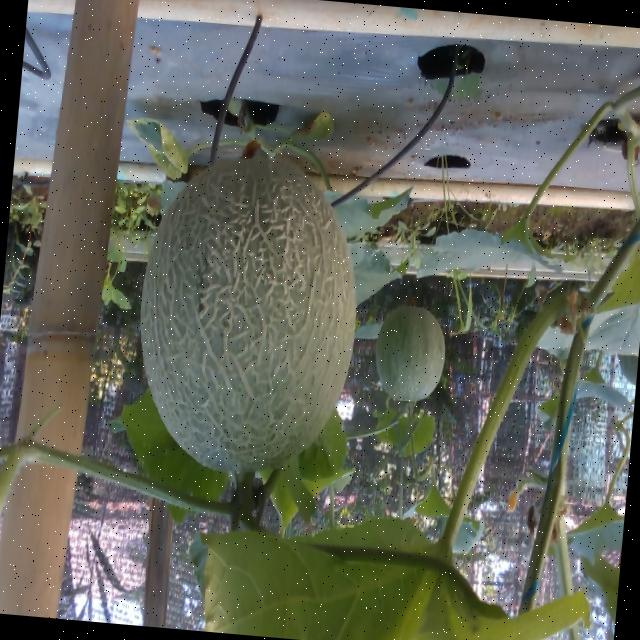melon: (140, 154, 354, 469)
